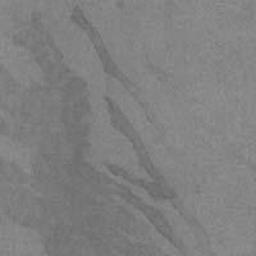Water spot: (0, 8, 220, 256), (68, 0, 195, 147)
